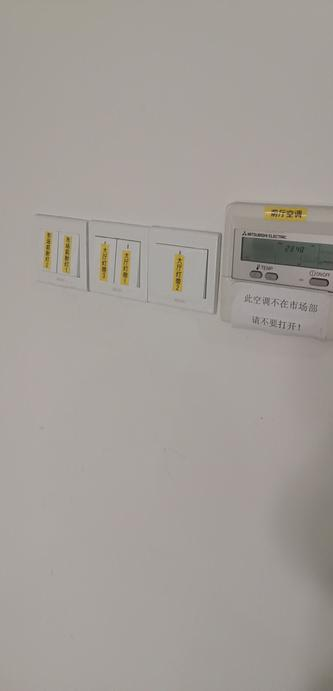switch: (156, 242, 211, 303), (112, 235, 140, 290), (57, 229, 79, 281), (93, 235, 114, 287), (40, 227, 57, 276)
